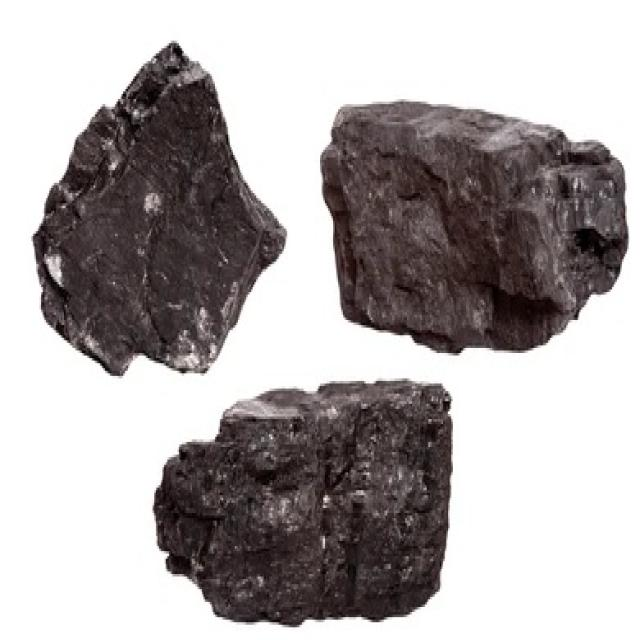Sedimentary: (28, 38, 292, 389), (318, 89, 635, 361), (144, 388, 482, 640)
